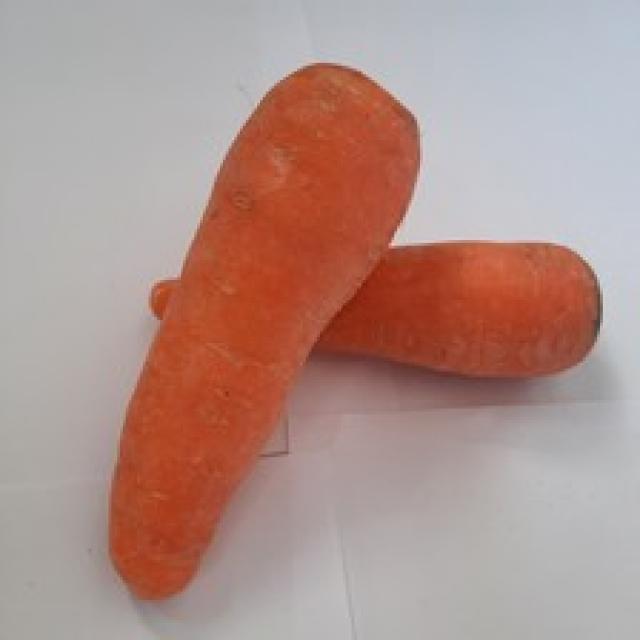Fresh_Carrot: (114, 60, 418, 601), (146, 241, 608, 396)
